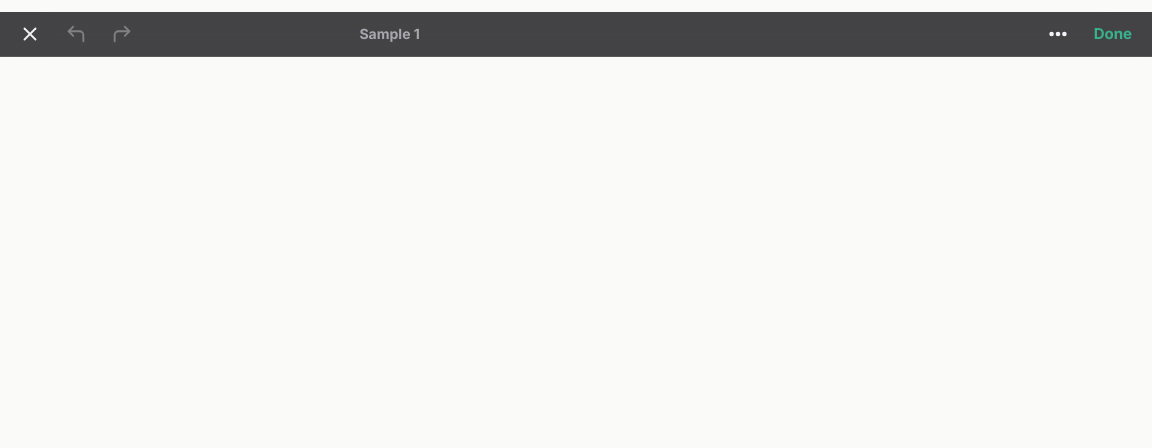
Test case: D8-F11: the overflow menu is a real popover › Tab closes the menu so focus can leave it
This screenshot has width=1152, height=448.
Click the button named "More options".
click(1058, 34)  # box [1036,12,1080,56]
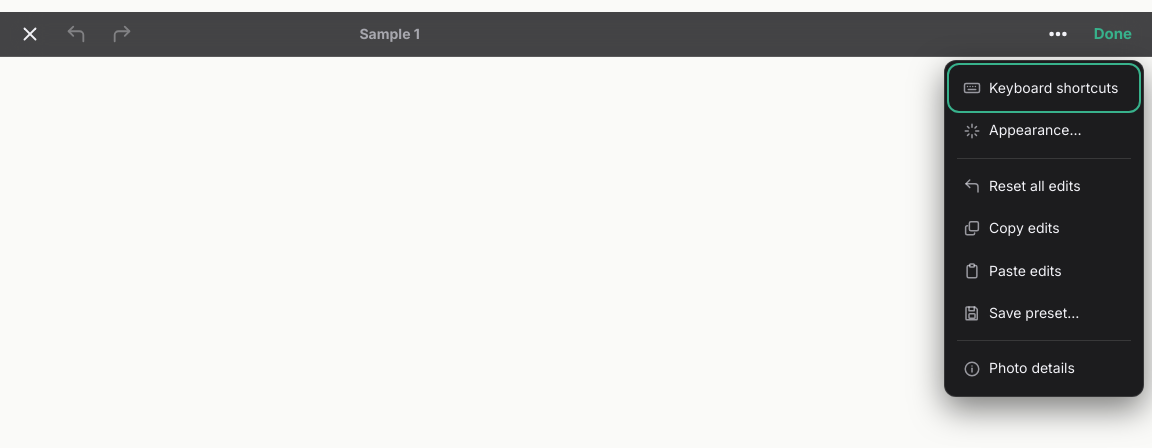
Press Tab in the menu item "Keyboard shortcuts", box [951,67,1137,109]
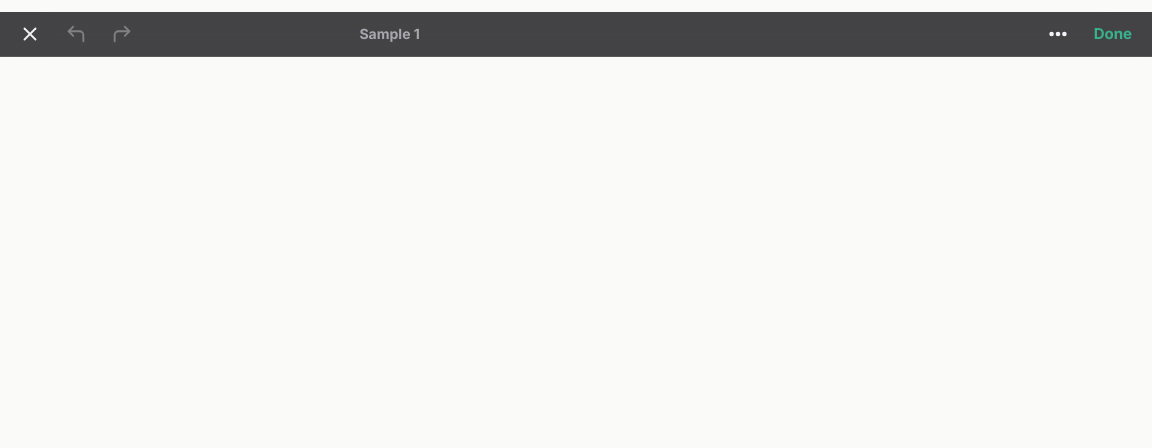
Expected: the menu is gone
